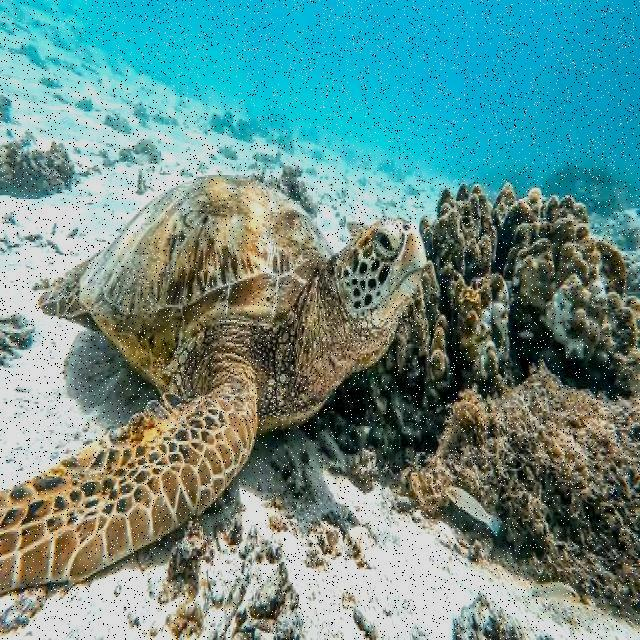tortoise: (1, 172, 429, 586)
